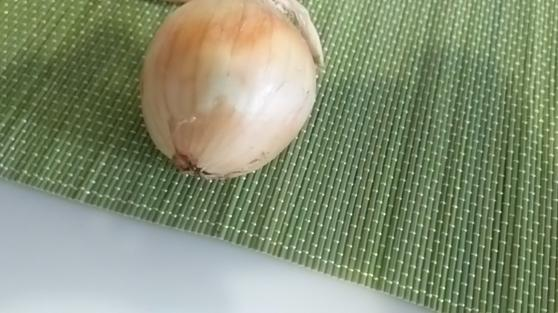onion: (140, 1, 321, 184)
